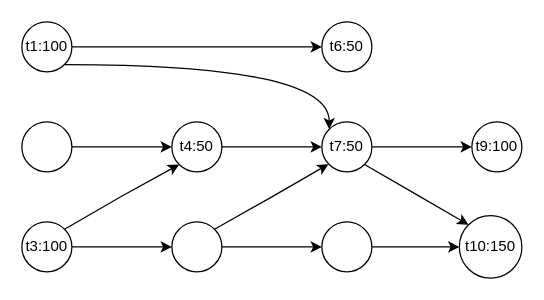
This 544x300 diagram has some shape labels left out. Each missing label, with the box of its shape:
t2:50: (21, 121, 72, 172)
t5:50: (171, 221, 222, 272)
t8:50: (321, 221, 372, 272)
